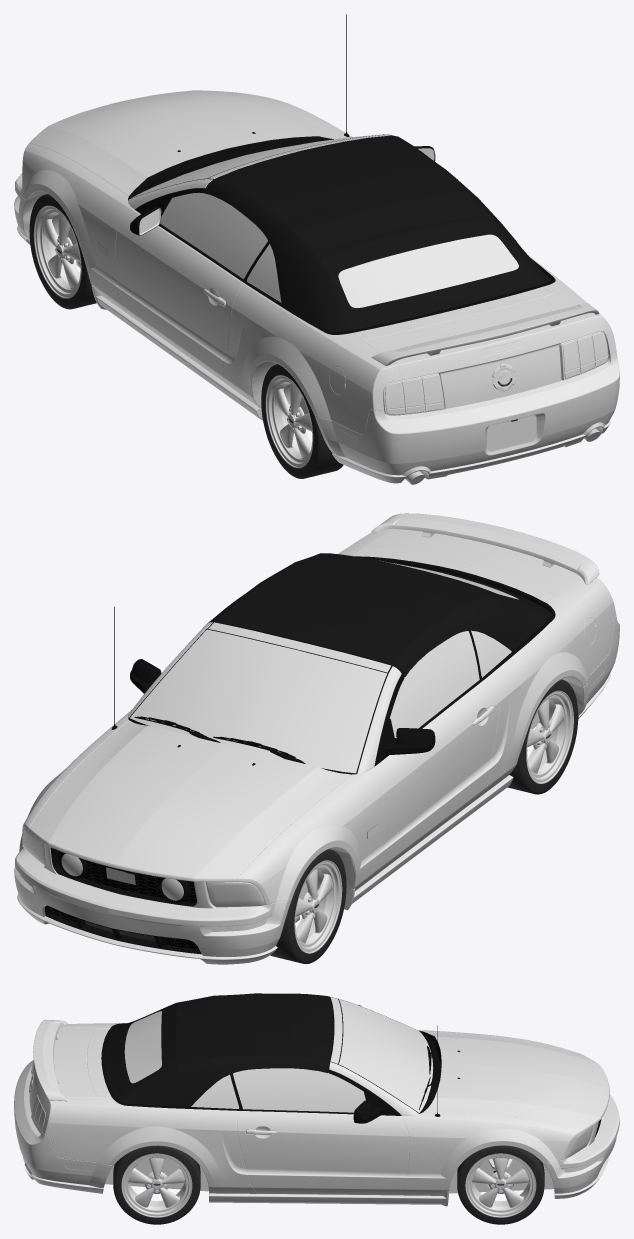
The model's file is MCLA_VP_FRD_MUSTANG_06.glb.
3 views of the same model, one above another, from view 1: azimuth 30°, elevation 25°; view 2: azimuth 150°, elevation 25°; view 3: azimuth 270°, elevation 25° (orthographic). The views are drawn at different scales.
Visible parts, largest first — view 1: vp_frd_mustang_06/resources/vehicle/vp_frd_mustang_06/conv_t, vp_frd_mustang_06/resources/vehicle/vp_frd_mustang_06/fender, vp_frd_mustang_06/resources/vehicle/vp_frd_mustang_06/bumper (×3), vp_frd_mustang_06/resources/vehicle/vp_frd_mustang_06/hood0_, vp_frd_mustang_06/resources/vehicle/vp_frd_mustang_06/door_l, vp_frd_mustang_06/resources/vehicle/vp_frd_mustang_06/trunk_, vp_frd_mustang_06/resources/vehicle/vp_frd_mustang_06/body_l (×5), vp_frd_mustang_06/resources/vehicle/vp_frd_mustang_06/tailli, shared/resources/rims/whl_stk_frd_mustang_06@axl_0/model0, shared/resources/rims/whl_stk_frd_mustang_06@axl_2/model0, vp_frd_mustang_06/resources/vehicle/vp_frd_mustang_06/spoile, shared/resources/tires/models/tir_car@axl_2/model0 (+2 smaller); view 2: vp_frd_mustang_06/resources/vehicle/vp_frd_mustang_06/body_l (×4), vp_frd_mustang_06/resources/vehicle/vp_frd_mustang_06/hood0_, vp_frd_mustang_06/resources/vehicle/vp_frd_mustang_06/fender, vp_frd_mustang_06/resources/vehicle/vp_frd_mustang_06/conv_t, vp_frd_mustang_06/resources/vehicle/vp_frd_mustang_06/bumper (×3), vp_frd_mustang_06/resources/vehicle/vp_frd_mustang_06/door_l, vp_frd_mustang_06/resources/vehicle/vp_frd_mustang_06/trunk_, vp_frd_mustang_06/resources/vehicle/vp_frd_mustang_06/spoile, shared/resources/rims/whl_stk_frd_mustang_06@axl_0/model0, shared/resources/rims/whl_stk_frd_mustang_06@axl_2/model0, shared/resources/tires/models/tir_car@axl_0/model0, vp_frd_mustang_06/resources/vehicle/vp_frd_mustang_06/skirts (+3 smaller); view 3: vp_frd_mustang_06/resources/vehicle/vp_frd_mustang_06/fender, vp_frd_mustang_06/resources/vehicle/vp_frd_mustang_06/conv_t, vp_frd_mustang_06/resources/vehicle/vp_frd_mustang_06/body_l (×4), vp_frd_mustang_06/resources/vehicle/vp_frd_mustang_06/door_r, vp_frd_mustang_06/resources/vehicle/vp_frd_mustang_06/hood0_, vp_frd_mustang_06/resources/vehicle/vp_frd_mustang_06/bumper (×2), shared/resources/rims/whl_stk_frd_mustang_06@axl_3/model0, shared/resources/rims/whl_stk_frd_mustang_06@axl_1/model0, vp_frd_mustang_06/resources/vehicle/vp_frd_mustang_06/trunk_, vp_frd_mustang_06/resources/vehicle/vp_frd_mustang_06/skirts, shared/resources/tires/models/tir_car@axl_3/model0, shared/resources/tires/models/tir_car@axl_1/model0 (+3 smaller).
Boxes of the visible parts, x1,y1,x2,y2 form: vp_frd_mustang_06/resources/vehicle/vp_frd_mustang_06/conv_t: (204,135,551,332); vp_frd_mustang_06/resources/vehicle/vp_frd_mustang_06/fender: (22,93,616,434); vp_frd_mustang_06/resources/vehicle/vp_frd_mustang_06/bumper (×3): (14,173,619,483); vp_frd_mustang_06/resources/vehicle/vp_frd_mustang_06/hood0_: (29,90,344,195); vp_frd_mustang_06/resources/vehicle/vp_frd_mustang_06/door_l: (115,198,244,384); vp_frd_mustang_06/resources/vehicle/vp_frd_mustang_06/trunk_: (363,293,591,408); vp_frd_mustang_06/resources/vehicle/vp_frd_mustang_06/body_l (×5): (128,134,394,301); vp_frd_mustang_06/resources/vehicle/vp_frd_mustang_06/tailli: (383,331,608,415); shared/resources/rims/whl_stk_frd_mustang_06@axl_0/model0: (33,205,81,298); shared/resources/rims/whl_stk_frd_mustang_06@axl_2/model0: (265,375,313,468); vp_frd_mustang_06/resources/vehicle/vp_frd_mustang_06/spoile: (371,303,599,365); shared/resources/tires/models/tir_car@axl_2/model0: (261,364,343,478); vp_frd_mustang_06/resources/vehicle/vp_frd_mustang_06/body_l (×4): (128,621,511,773); vp_frd_mustang_06/resources/vehicle/vp_frd_mustang_06/hood0_: (28,720,350,882); vp_frd_mustang_06/resources/vehicle/vp_frd_mustang_06/fender: (22,528,616,904); vp_frd_mustang_06/resources/vehicle/vp_frd_mustang_06/conv_t: (207,553,551,677); vp_frd_mustang_06/resources/vehicle/vp_frd_mustang_06/bumper (×3): (14,616,619,964); vp_frd_mustang_06/resources/vehicle/vp_frd_mustang_06/door_l: (374,679,499,870); vp_frd_mustang_06/resources/vehicle/vp_frd_mustang_06/trunk_: (363,529,581,596); vp_frd_mustang_06/resources/vehicle/vp_frd_mustang_06/spoile: (371,513,599,584); shared/resources/rims/whl_stk_frd_mustang_06@axl_0/model0: (294,860,342,953); shared/resources/rims/whl_stk_frd_mustang_06@axl_2/model0: (526,690,573,783); shared/resources/tires/models/tir_car@axl_0/model0: (270,849,346,963); vp_frd_mustang_06/resources/vehicle/vp_frd_mustang_06/skirts: (344,775,513,910); vp_frd_mustang_06/resources/vehicle/vp_frd_mustang_06/fender: (42,1023,583,1195); vp_frd_mustang_06/resources/vehicle/vp_frd_mustang_06/conv_t: (104,993,333,1107); vp_frd_mustang_06/resources/vehicle/vp_frd_mustang_06/body_l (×4): (191,996,441,1115); vp_frd_mustang_06/resources/vehicle/vp_frd_mustang_06/door_r: (237,1092,409,1195); vp_frd_mustang_06/resources/vehicle/vp_frd_mustang_06/hood0_: (424,1031,609,1131); vp_frd_mustang_06/resources/vehicle/vp_frd_mustang_06/bumper (×2): (14,1060,619,1198); shared/resources/rims/whl_stk_frd_mustang_06@axl_3/model0: (121,1153,192,1217); shared/resources/rims/whl_stk_frd_mustang_06@axl_1/model0: (465,1153,536,1217); vp_frd_mustang_06/resources/vehicle/vp_frd_mustang_06/trunk_: (29,1026,96,1112); vp_frd_mustang_06/resources/vehicle/vp_frd_mustang_06/skirts: (209,1191,449,1206); shared/resources/tires/models/tir_car@axl_3/model0: (113,1145,200,1224); shared/resources/tires/models/tir_car@axl_1/model0: (457,1145,544,1224).
Bounding box in the file's own units: 2.04 × 1.7 × 4.8.
Materials: 156 (74 with a texture image).
